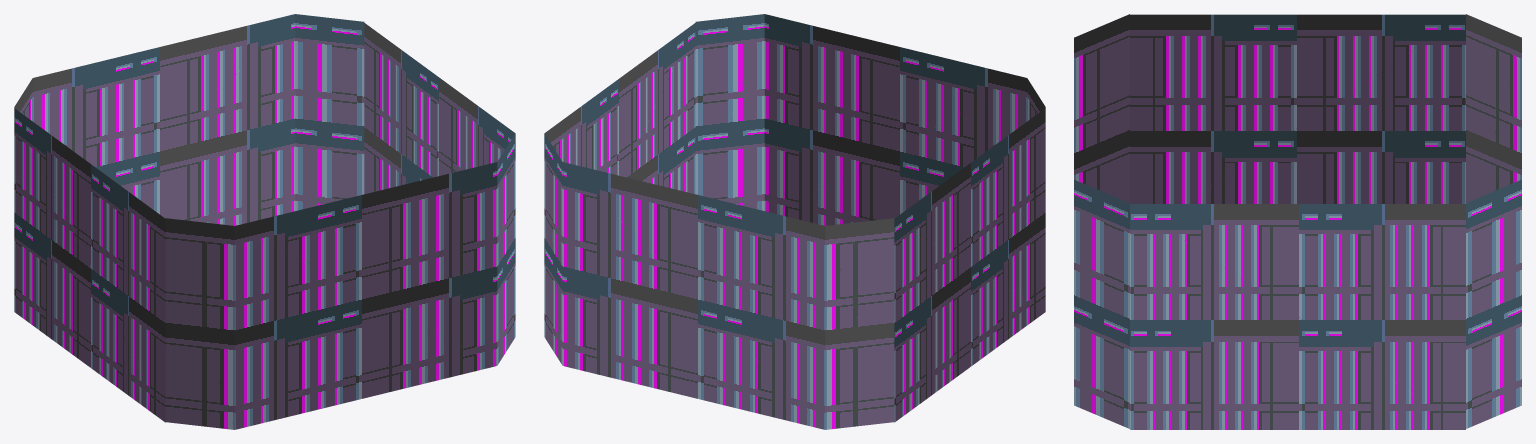
The picture shows the model from 3 angles, left to right: view 1: azimuth 30°, elevation 25°; view 2: azimuth 150°, elevation 25°; view 3: azimuth 270°, elevation 25°; orthographic projection. The views are drawn at different scales.
Visible parts, largest first — view 1: obj-112; view 2: obj-112; view 3: obj-112.
Boxes of the visible parts, <box> form: obj-112: <box>14,14,515,429</box>; obj-112: <box>544,14,1045,429</box>; obj-112: <box>1074,14,1521,429</box>.
Size of the model in its own units: 3.45 by 1.93 by 3.45.
1 material, 1 textured.
